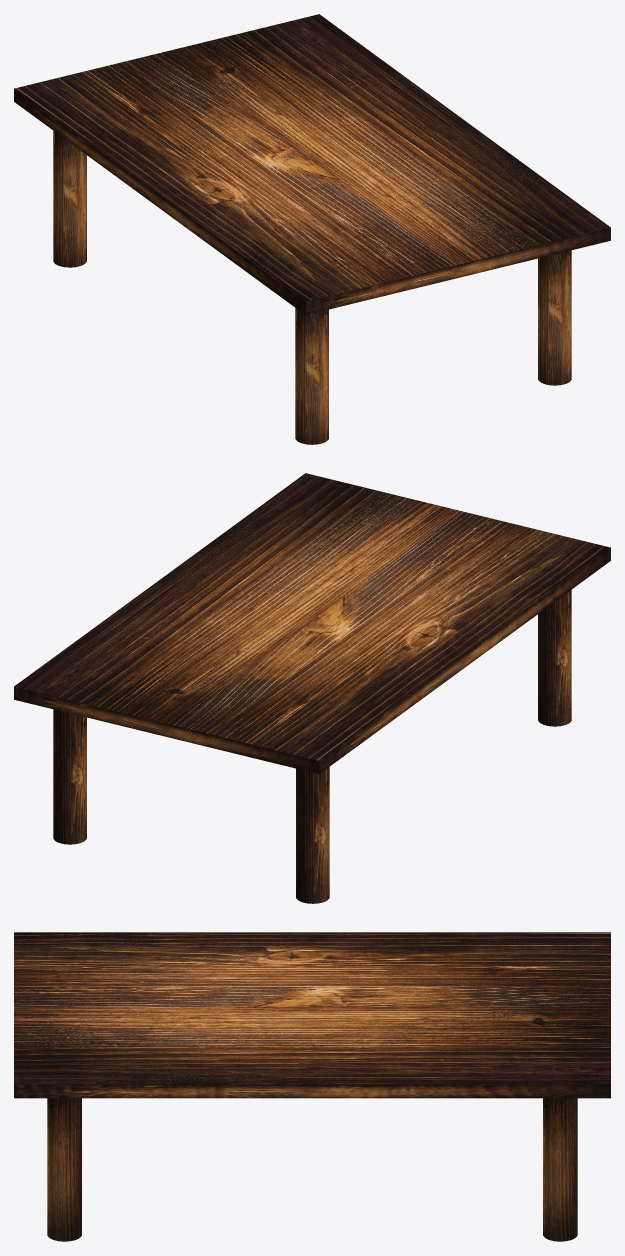
Rendered from Table.FBX.
The picture shows the model from 3 angles, top to bottom: view 1: azimuth 30°, elevation 25°; view 2: azimuth 150°, elevation 25°; view 3: azimuth 270°, elevation 25°; orthographic projection. The views are drawn at different scales.
Visible parts, largest first — view 1: Box001, Cylinder002, Cylinder005, Cylinder003; view 2: Box001, Cylinder003, Cylinder004, Cylinder002; view 3: Box001, Cylinder004, Cylinder005.
Boxes of the visible parts, bbox=[...] form: Box001: bbox=[14, 14, 610, 314]; Cylinder002: bbox=[295, 308, 328, 444]; Cylinder005: bbox=[538, 250, 571, 385]; Cylinder003: bbox=[53, 131, 86, 267]; Box001: bbox=[14, 473, 610, 773]; Cylinder003: bbox=[296, 767, 329, 903]; Cylinder004: bbox=[53, 709, 86, 844]; Cylinder002: bbox=[538, 590, 571, 726]; Box001: bbox=[14, 932, 610, 1098]; Cylinder004: bbox=[543, 1098, 577, 1241]; Cylinder005: bbox=[47, 1098, 81, 1241].
Bounding box in the file's own units: 97.07 × 49 × 161.
Materials: 5 (5 with a texture image).
